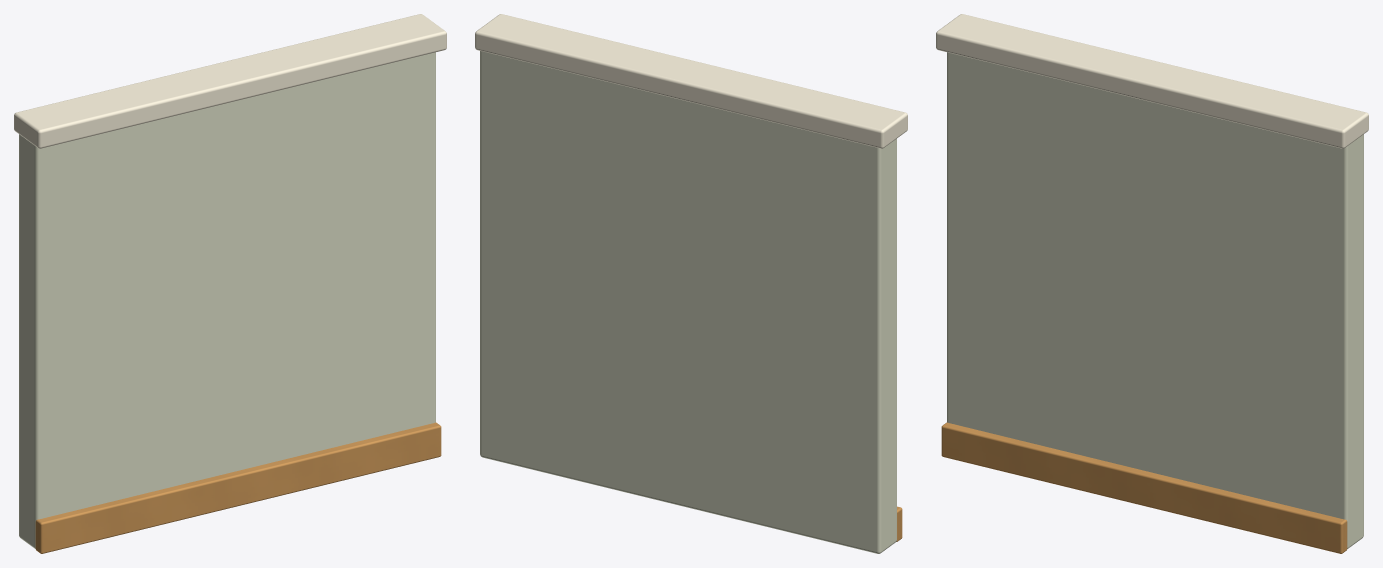
File: Wall_Solid.glb
3 views of the same model, side by side, from view 1: azimuth 30°, elevation 25°; view 2: azimuth 150°, elevation 25°; view 3: azimuth 330°, elevation 25° (orthographic).
Parts seen in each view (by area): view 1: Wall_Solid; view 2: Wall_Solid; view 3: Wall_Solid.
Boxes of the visible parts, left/top/right/bottom form: Wall_Solid: left=14, top=14, right=446, bottom=553; Wall_Solid: left=475, top=14, right=907, bottom=553; Wall_Solid: left=936, top=14, right=1368, bottom=553.
Bounding box in the file's own units: 2.04 × 2.03 × 0.225.
Materials: 3 (1 with a texture image).
